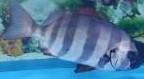fish: (0, 0, 143, 71)
